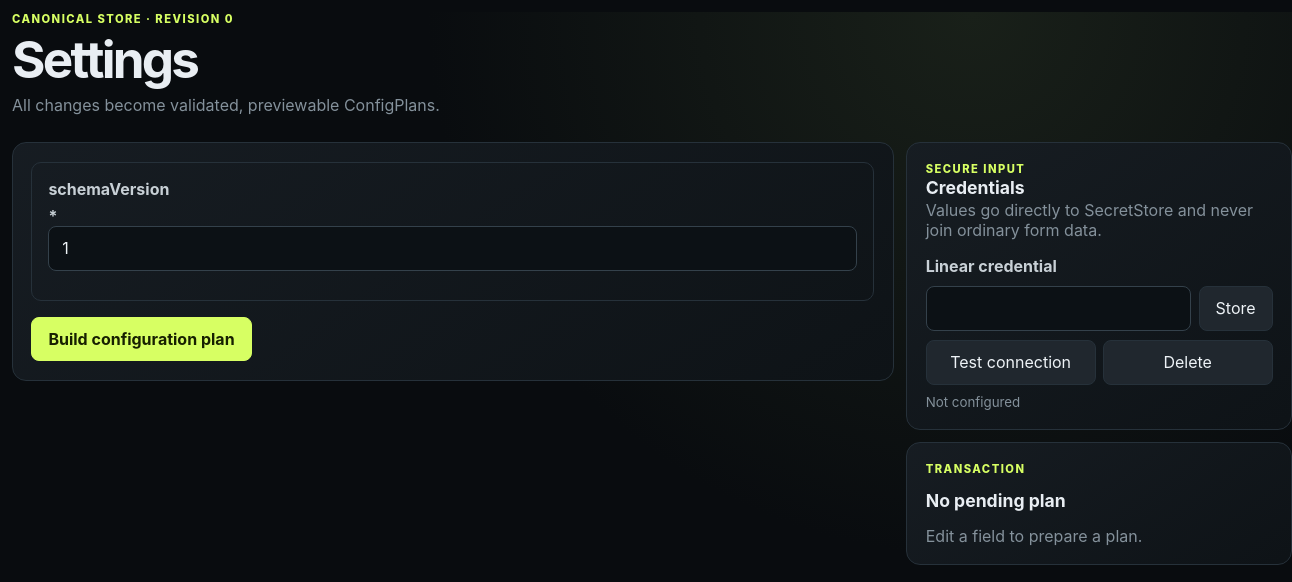
Dashboard shell › submits the shared Draft 2020-12 schema through RJSF
Click the button "Build configuration plan" at (142, 339), box [31,317,252,361]
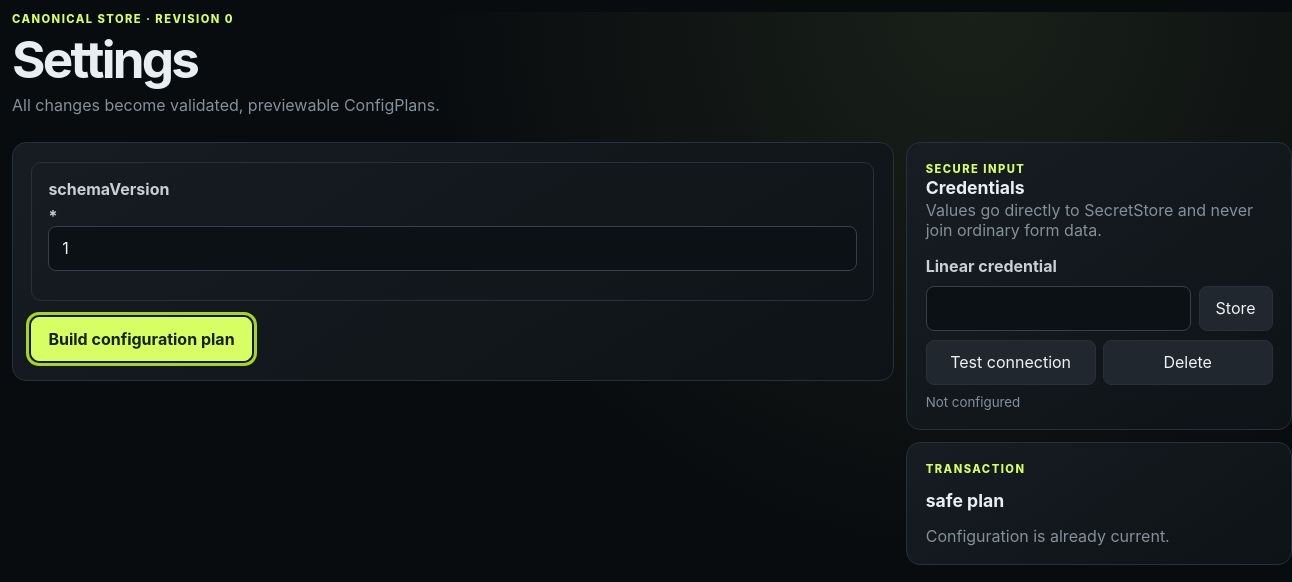
Check: the text "Configuration is already current." is shown, box [926,526,1170,546]
